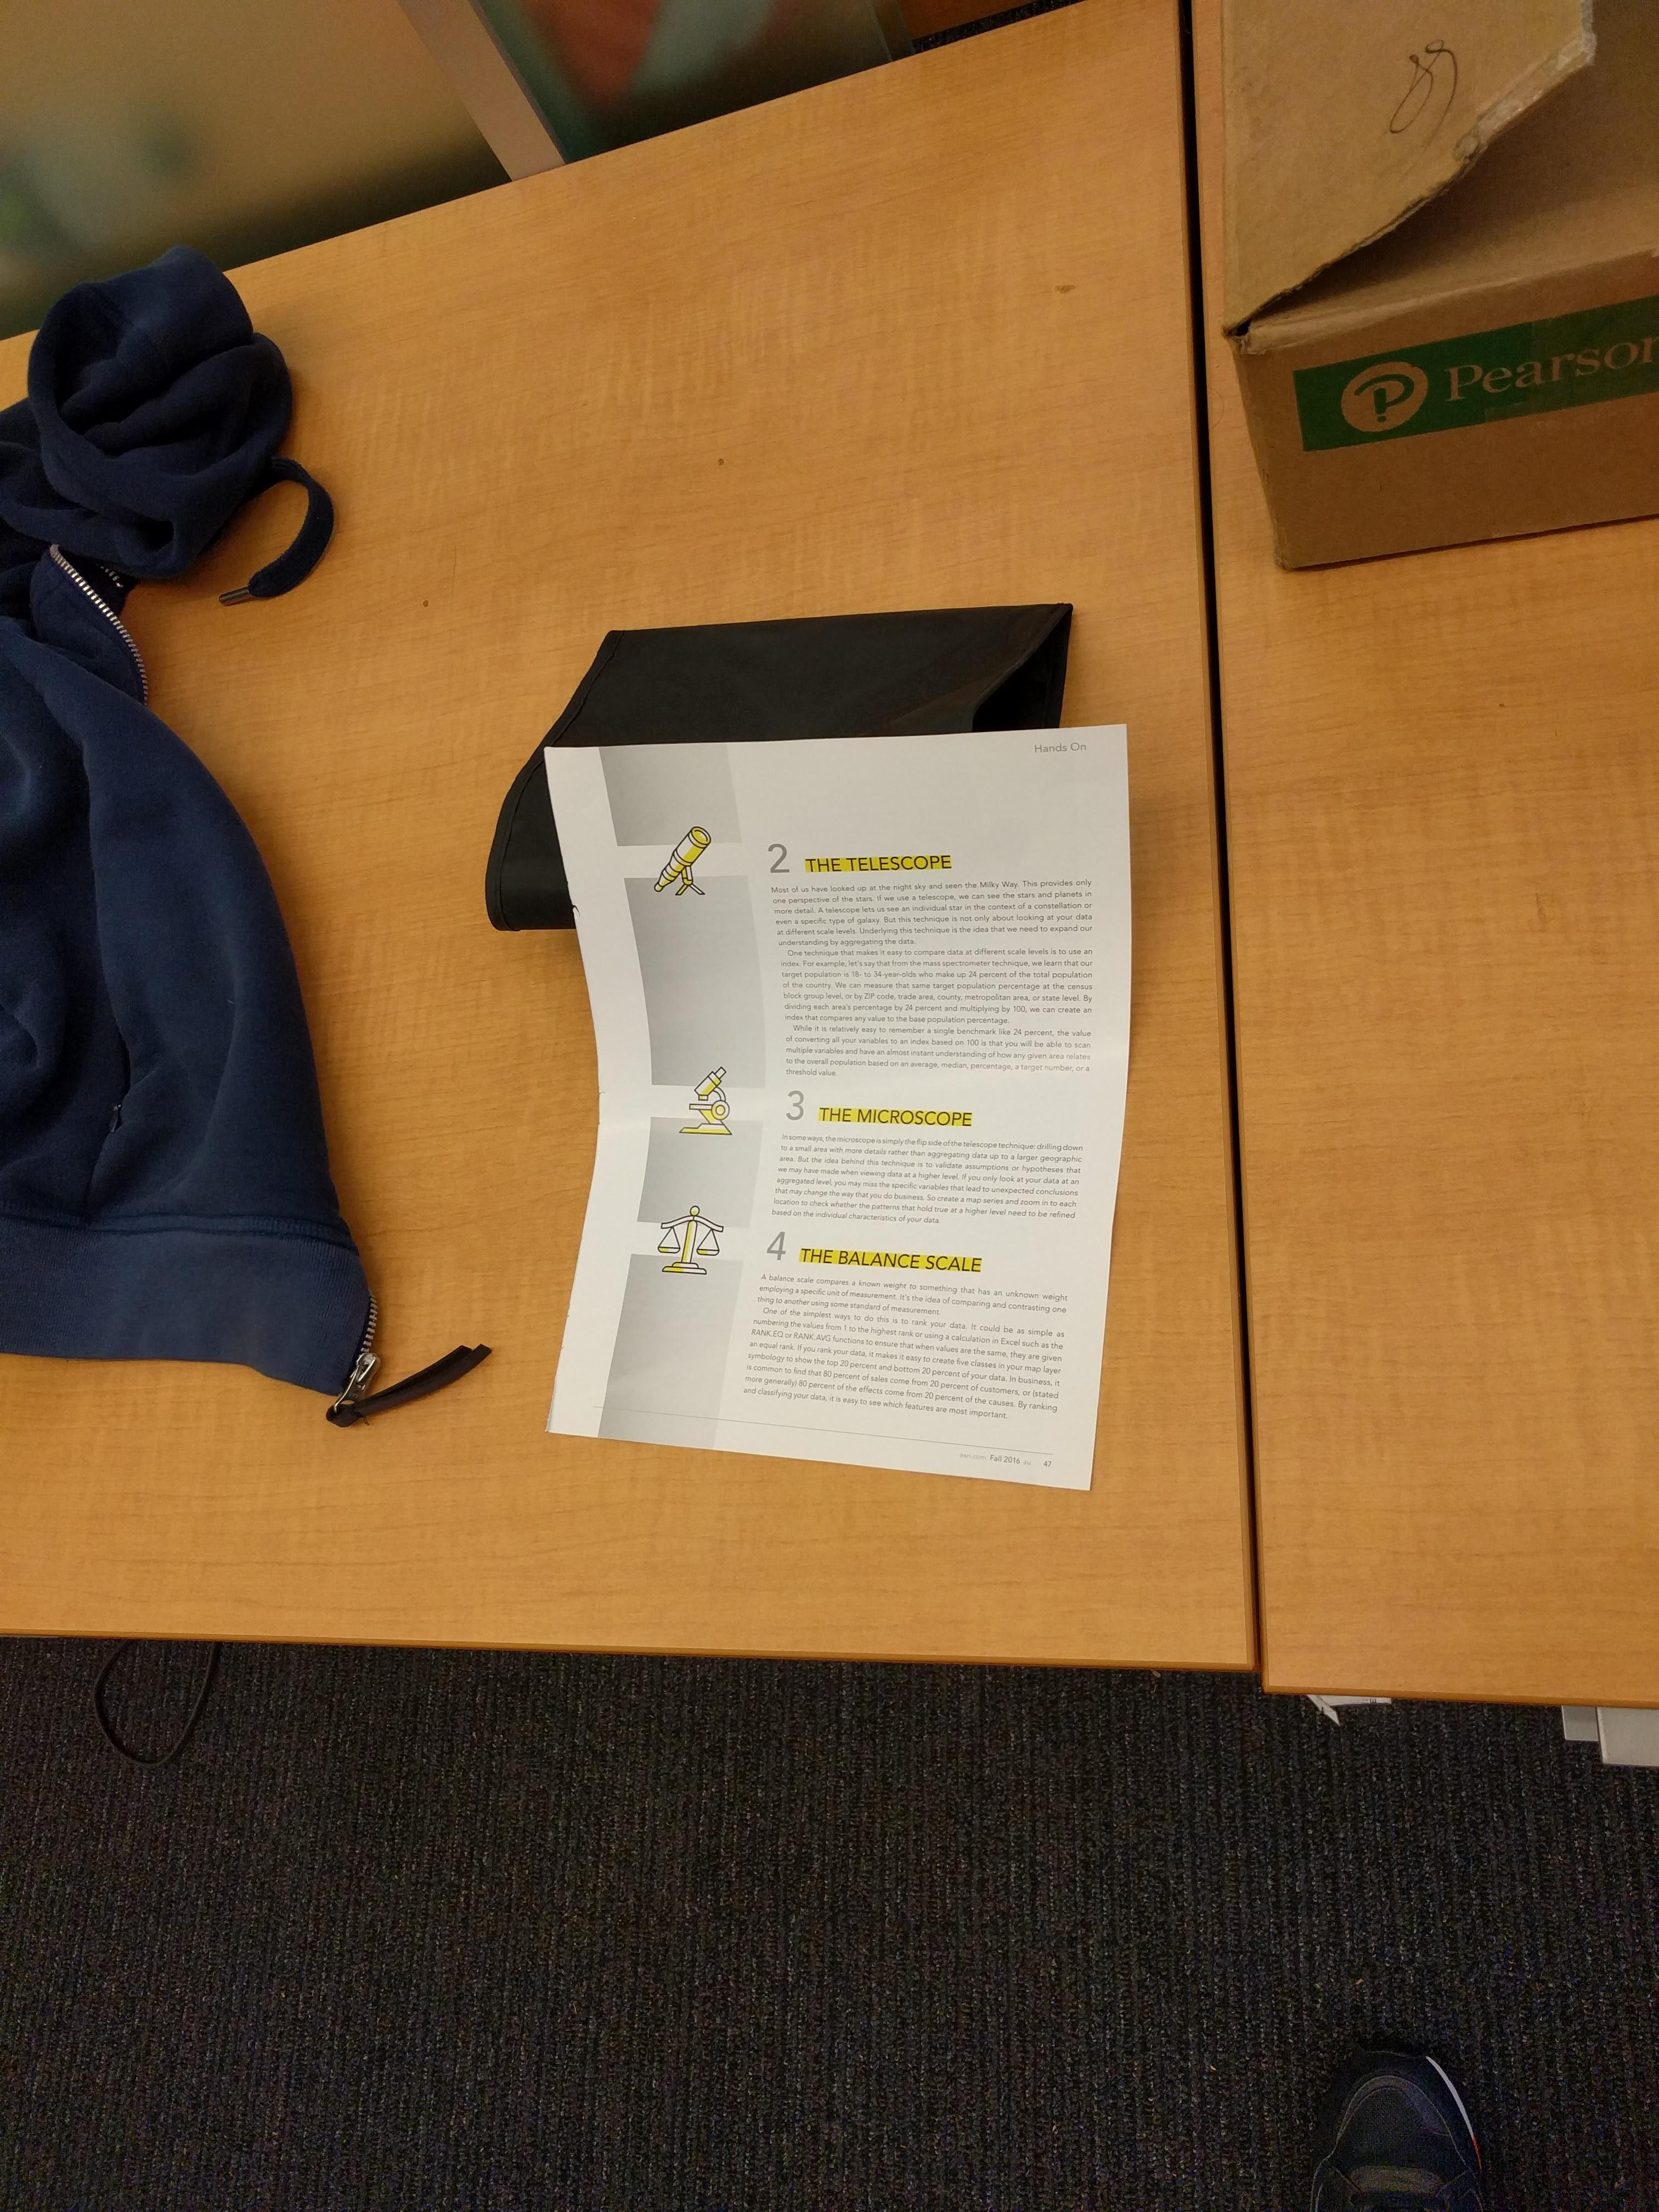paper: (441, 662, 1356, 1648)
